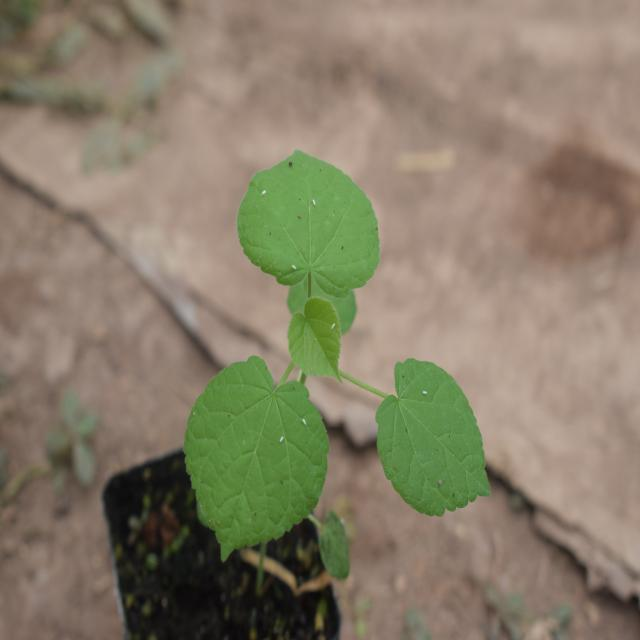abutilon theophrasti: (180, 126, 480, 570)
